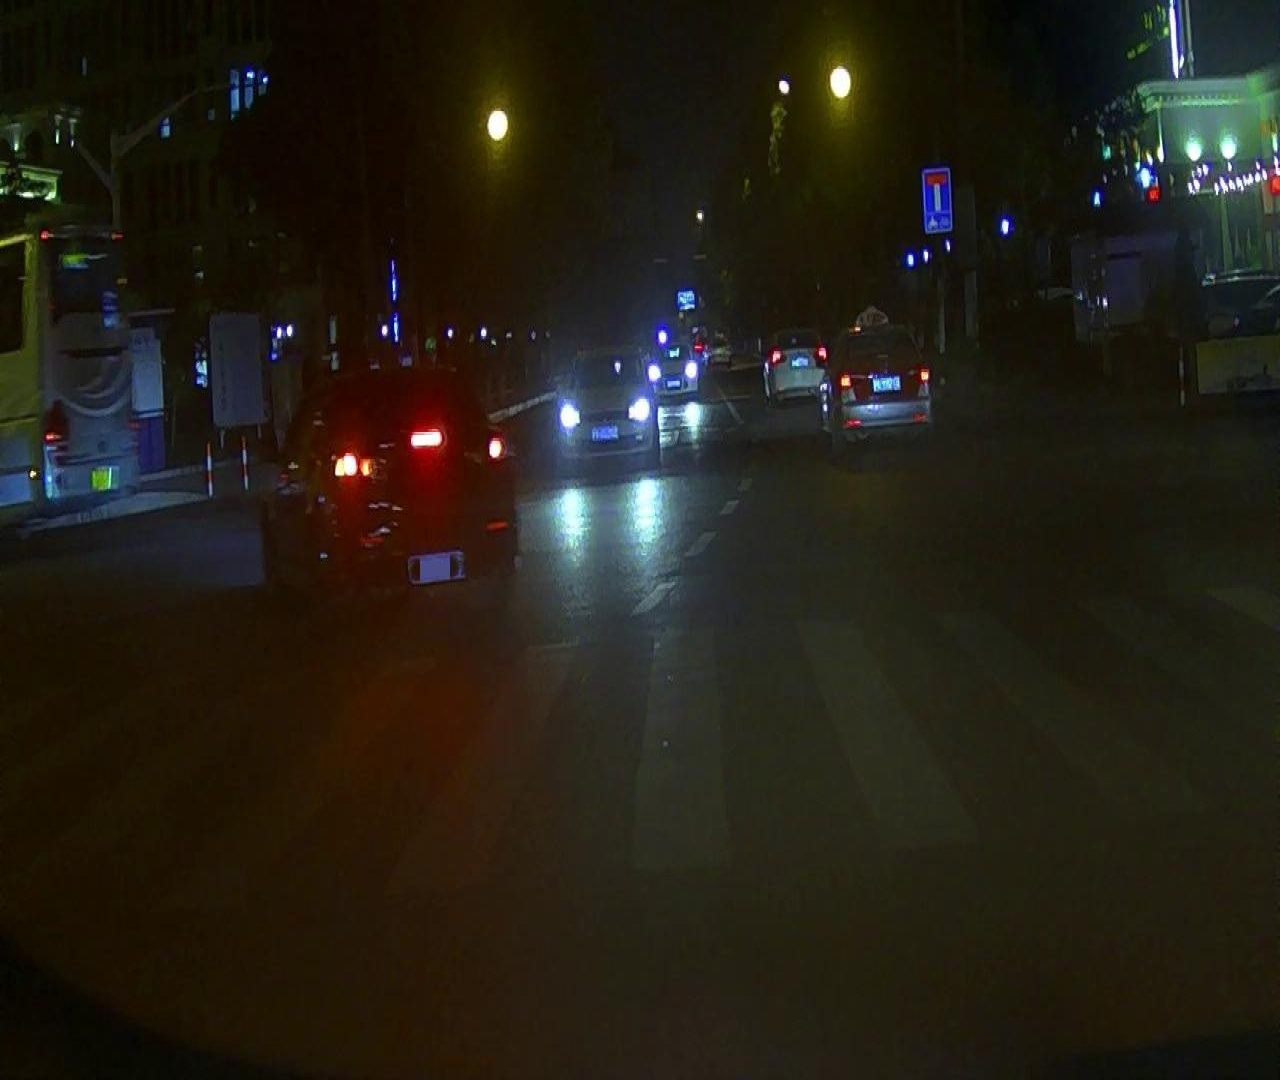yellow: (823, 57, 858, 108), (481, 96, 514, 151)
